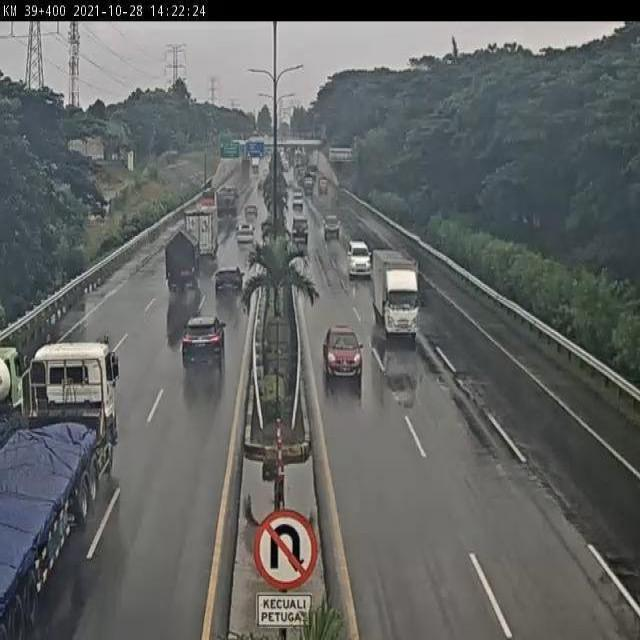car: (181, 315, 227, 371), (324, 324, 363, 384), (214, 267, 244, 296), (236, 223, 255, 245)
truck: (0, 344, 113, 640), (371, 249, 424, 344), (162, 227, 202, 295), (182, 203, 221, 261)
